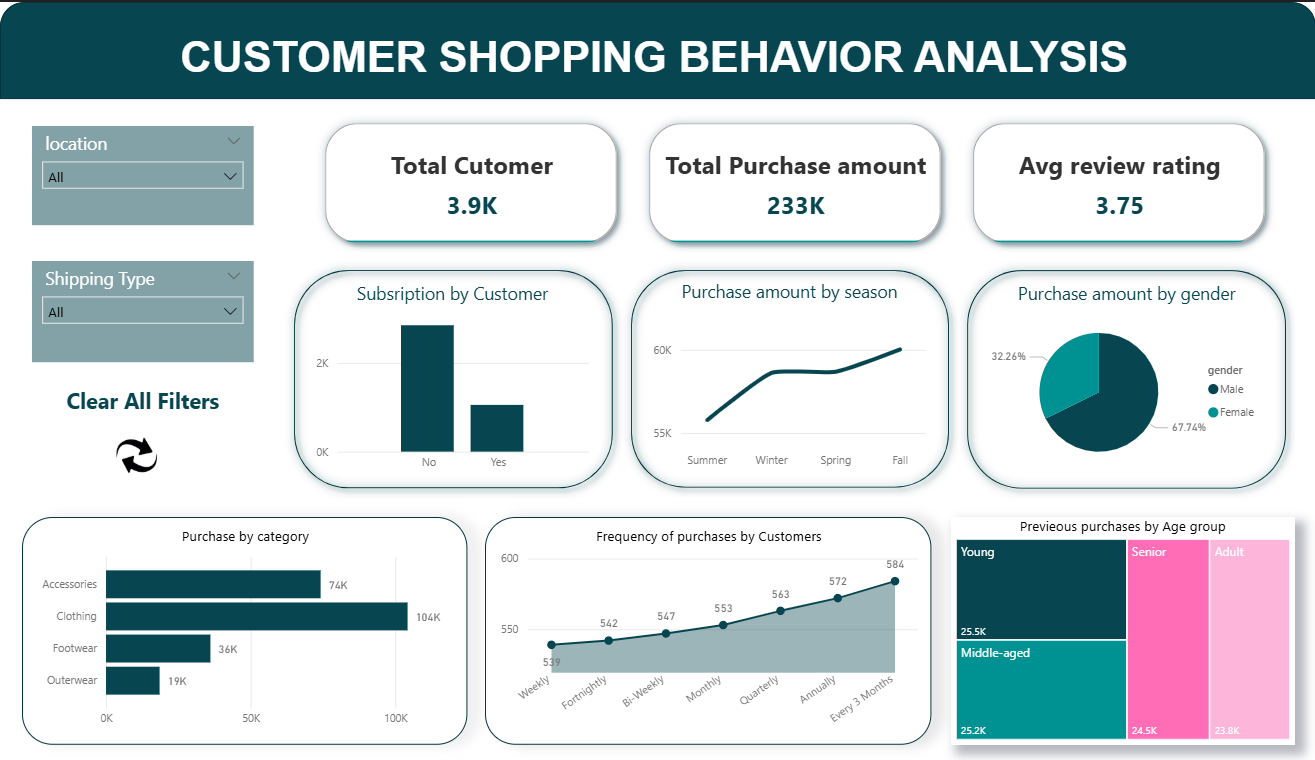

What the dashboard file says about the page in this screenshot:
{"tool":"powerbi","page":{"name":"Page 1","canvas":[1300,749],"ordinal":0},"visuals":[{"type":"cardVisual","fields":{"Data":["CountNonNull(customer_shopping_behavior.customer_id)","customer_shopping_behavior.SUM_Purcahse_amount","customer_shopping_behavior.Avg review rating"]},"box":[304.6,103.1,962.4,152.8],"z":0},{"type":"shape","box":[0,0,1300,96],"z":1000},{"type":"textbox","box":[0,25,1293,70.9],"z":2000},{"type":"slicer","fields":{"Values":["customer_shopping_behavior.shipping_type"]},"box":[32,255.8,218.8,99.9],"z":3000},{"type":"shape","box":[614,256,332,233],"z":4000},{"type":"shape","box":[281.2,255.9,332.8,233.5],"z":5000},{"type":"clusteredBarChart","title":"Purchase by category","fields":{"Y":["Sum(customer_shopping_behavior.purchase_amount)"],"Category":["customer_shopping_behavior.category"]},"box":[22,508.6,439.7,224.8],"z":6000},{"type":"shape","box":[946,256,333,234],"z":7000},{"type":"columnChart","title":"Subsription by Customer","fields":{"Category":["customer_shopping_behavior.subscription_status"],"Y":["CountNonNull(customer_shopping_behavior.customer_id)"]},"box":[307.2,275.6,279.6,197.6],"z":8000},{"type":"treemap","title":"Previeous purchases by Age group","fields":{"Group":["customer_shopping_behavior.age_group"],"Values":["Sum(customer_shopping_behavior.previous_purchases)"]},"box":[939.3,508.6,339.7,224.8],"z":9000},{"type":"lineChart","title":"Purchase amount by season","fields":{"Category":["customer_shopping_behavior.season"],"Y":["Sum(customer_shopping_behavior.purchase_amount)"]},"box":[640.1,273.6,279.6,197.6],"z":10000},{"type":"pieChart","title":"Purchase amount by gender","fields":{"Category":["customer_shopping_behavior.gender"],"Y":["Sum(customer_shopping_behavior.purchase_amount)"]},"box":[973,276,280,197],"z":11000},{"type":"lineChart","title":"Frequency of purchases by Customers","fields":{"Category":["customer_shopping_behavior.frequency_of_purchases"],"Y":["CountNonNull(customer_shopping_behavior.customer_id)"]},"box":[478.6,508.6,440.7,224.8],"z":12000},{"type":"slicer","fields":{"Values":["customer_shopping_behavior.location"]},"box":[32,122.9,218.8,97.9],"z":13000},{"type":"image","box":[75.9,422.7,117.9,50],"z":14000},{"type":"textbox","box":[32,374.7,218.8,48],"z":15002}]}

Visuals, with their boxes in screenshot pixels (x1, y1, x2, y2), scaled from the page's 1300x749 canvas onto the 1315x760 screenshot:
cardVisual - CountNonNull(customer_shopping_behavior.customer_id) x customer_shopping_behavior.SUM_Purcahse_amount: 308:105:1282:260
shape: 0:0:1314:97
textbox: 0:25:1308:97
slicer - customer_shopping_behavior.shipping_type: 32:260:254:361
shape: 621:260:957:496
shape: 284:260:621:497
"Purchase by category" clusteredBarChart: 22:516:467:744
shape: 957:260:1294:497
"Subsription by Customer" columnChart: 311:280:594:480
"Previeous purchases by Age group" treemap: 950:516:1294:744
"Purchase amount by season" lineChart: 647:278:930:478
"Purchase amount by gender" pieChart: 984:280:1267:480
"Frequency of purchases by Customers" lineChart: 484:516:930:744
slicer - customer_shopping_behavior.location: 32:125:254:224
image: 77:429:196:480
textbox: 32:380:254:429
